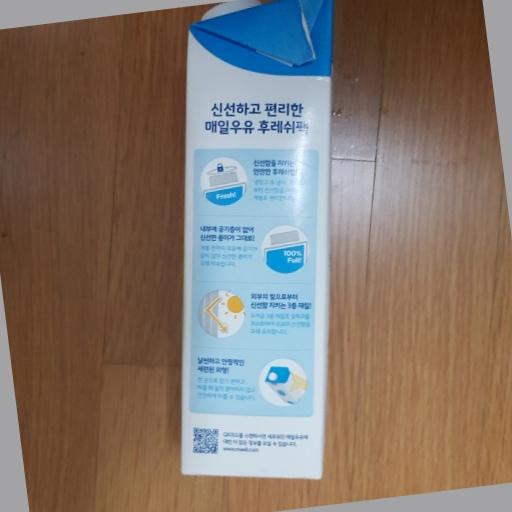Paper_0: (174, 1, 345, 488)
